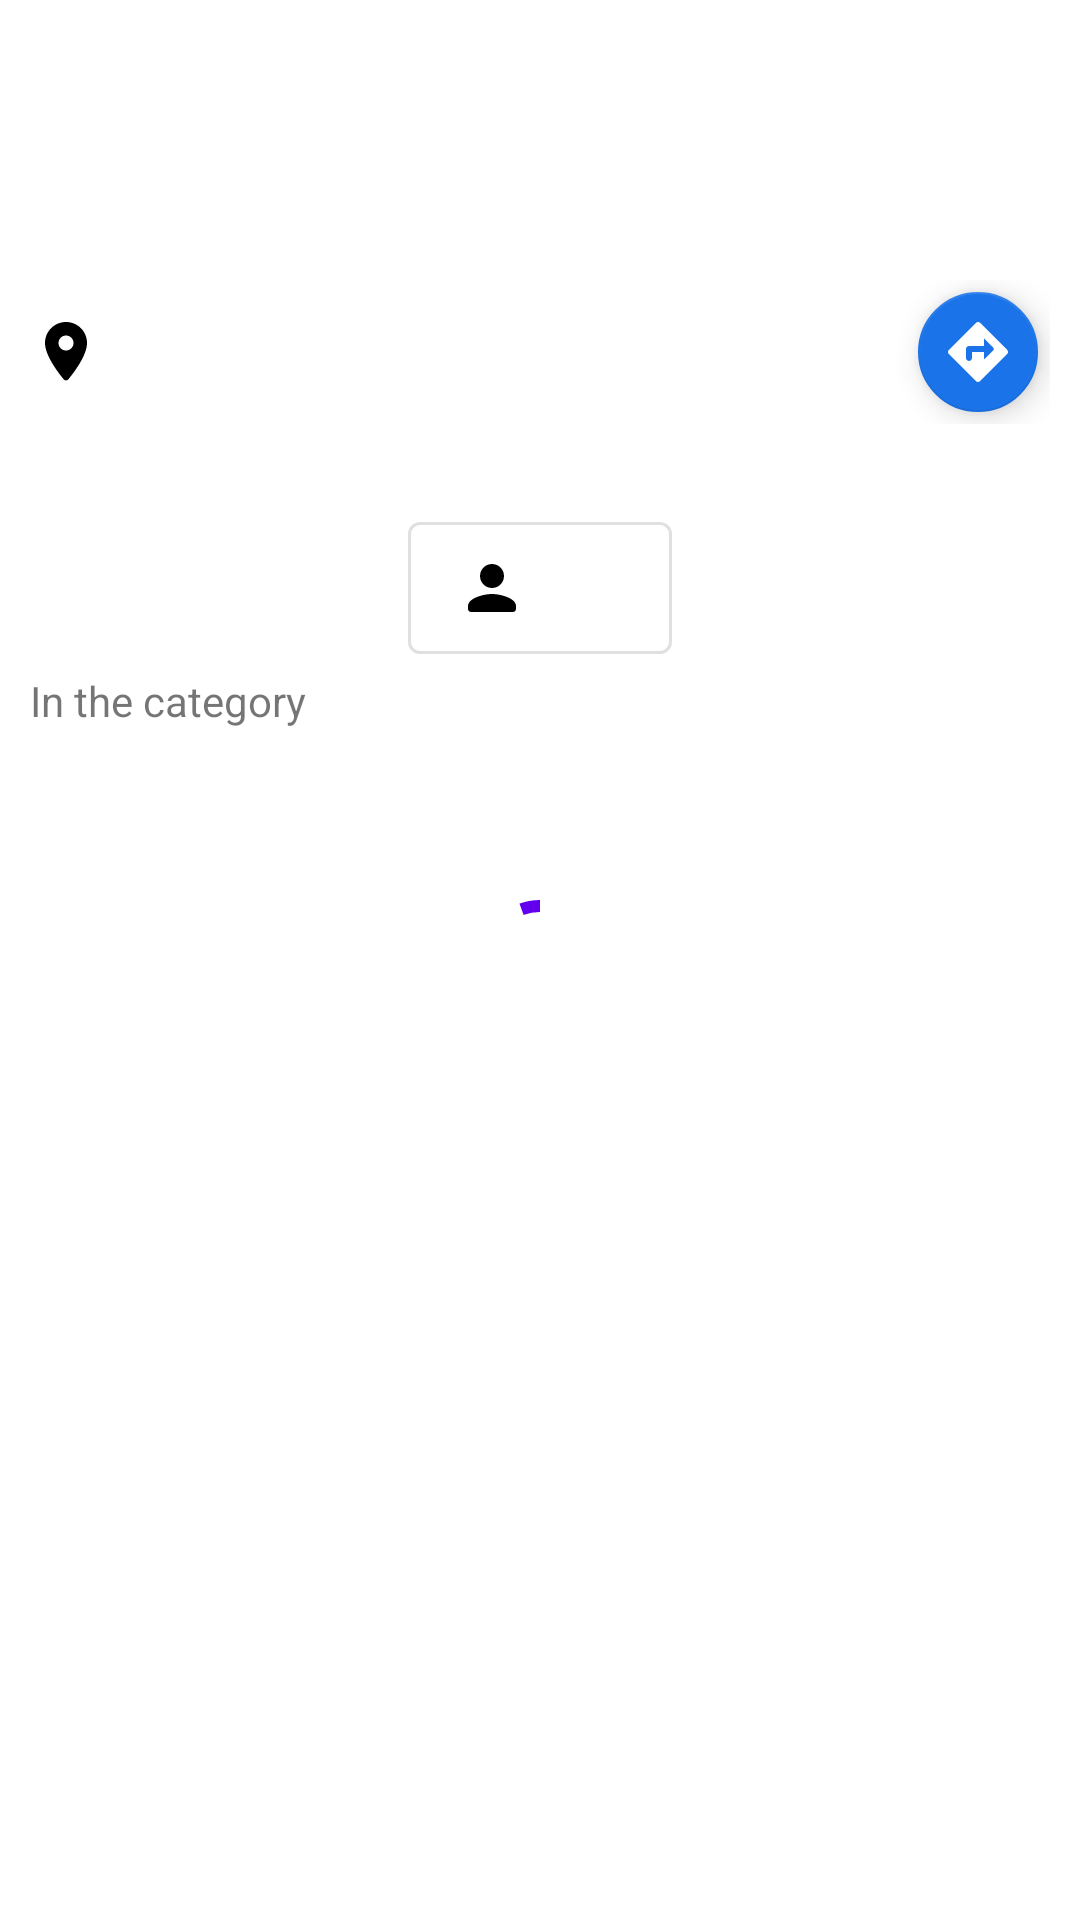

Named icons in this screenshot (1080x1920) and their bounding boxes, (x1,y1,x2,y2):
Get directions in Google Maps: (918,292,1040,414)
location on: (45,322,87,381)
